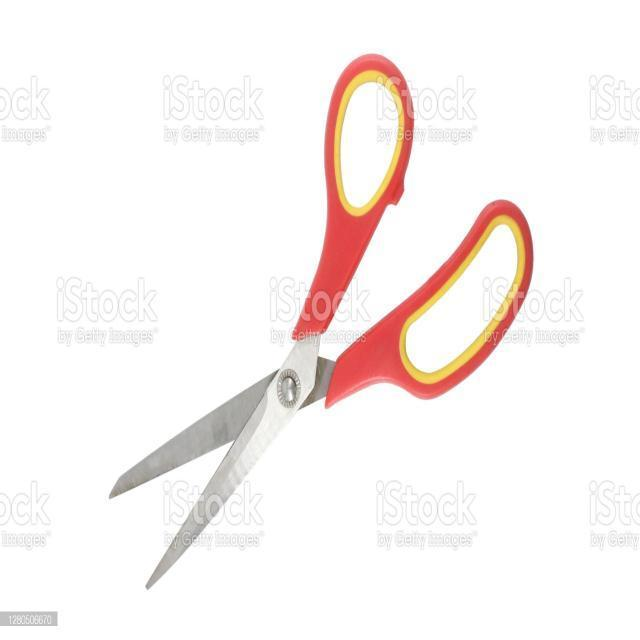scissor: (111, 53, 533, 591)
